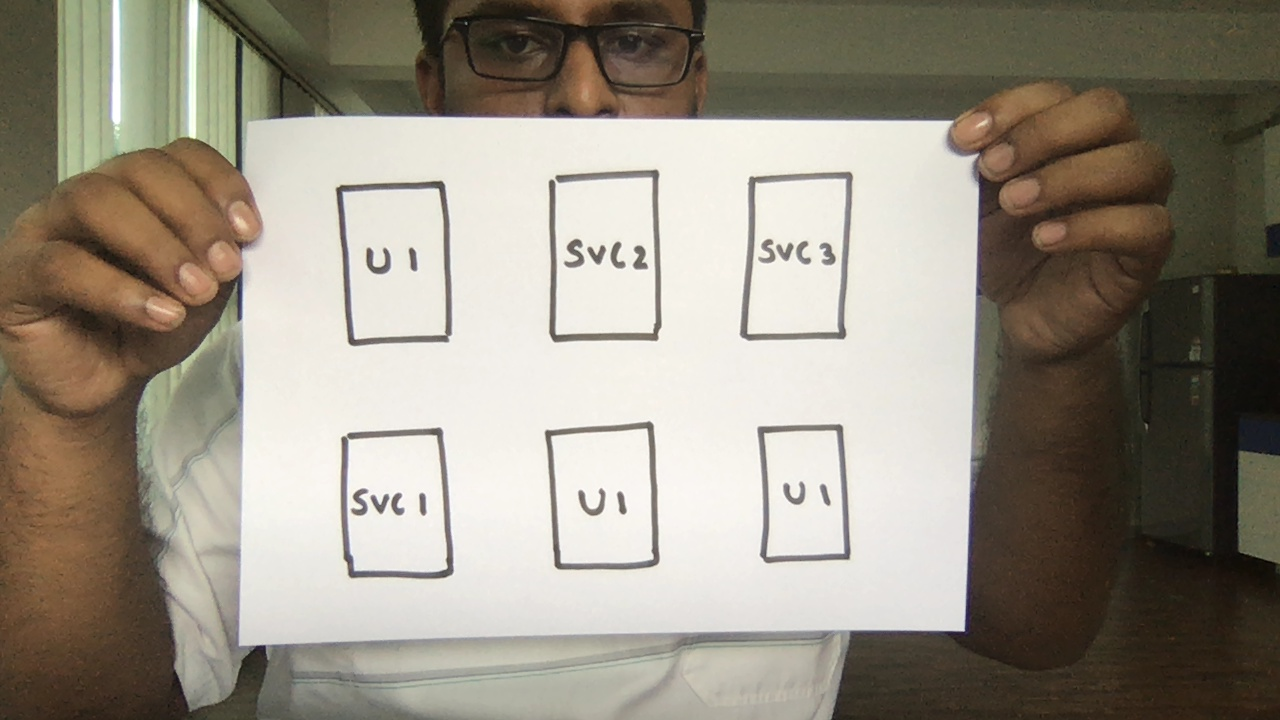ec2: (541, 166, 668, 347), (733, 167, 860, 348), (335, 421, 462, 588)
ui: (332, 178, 459, 350), (540, 418, 670, 578), (748, 419, 862, 572)
